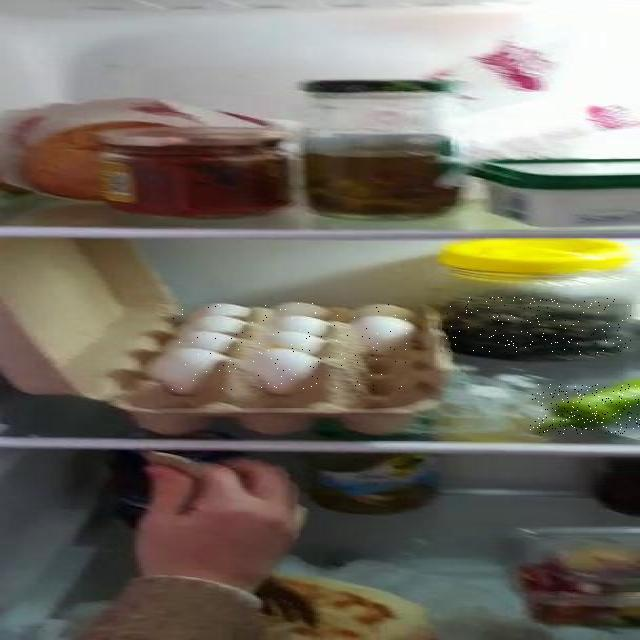eggs: (172, 302, 412, 390)
green chilies: (530, 384, 640, 434)
olives: (446, 297, 632, 355)
